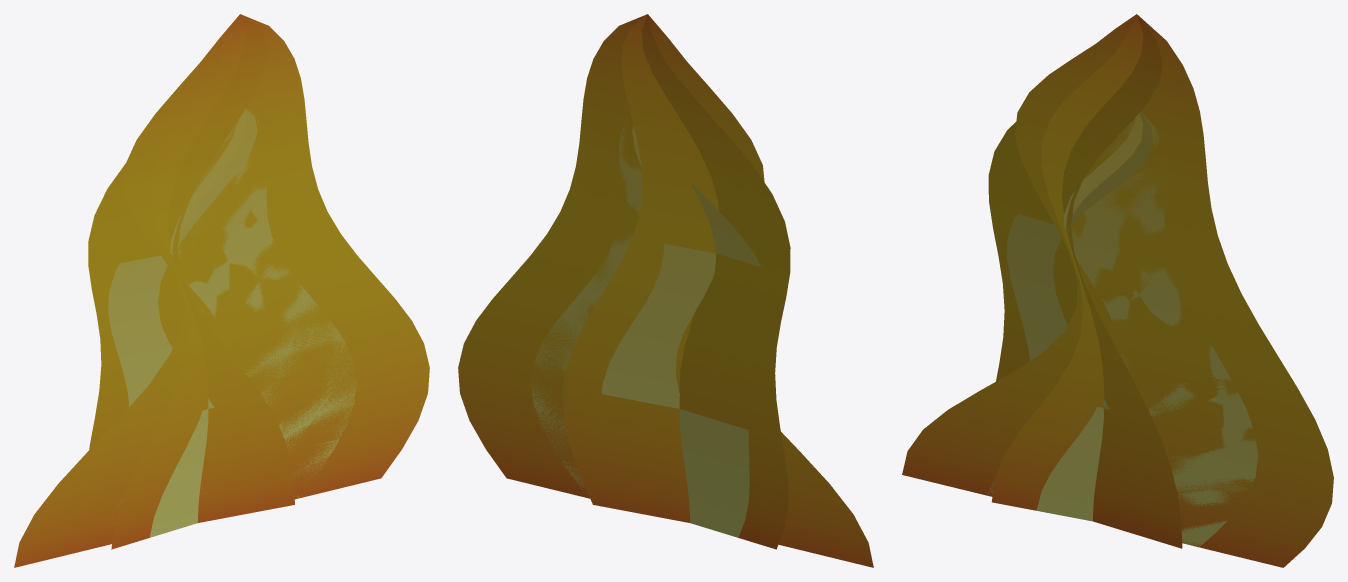
Rendered from 2032_MoltenEruption_Trigger_EruptionFire.fbx.
The picture shows the model from 3 angles, left to right: view 1: azimuth 30°, elevation 25°; view 2: azimuth 150°, elevation 25°; view 3: azimuth 330°, elevation 25°; orthographic projection. The views are drawn at different scales.
Parts seen in each view (by area): view 1: PART_Eruption_OrangeCurledOuterFire, PART_Eruption_YellowInnerFire; view 2: PART_Eruption_OrangeCurledOuterFire, PART_Eruption_YellowInnerFire; view 3: PART_Eruption_OrangeCurledOuterFire, PART_Eruption_YellowInnerFire.
Part boxes in pixels (box(x1,y1,x2,y2)): PART_Eruption_OrangeCurledOuterFire: box(14, 14, 429, 567); PART_Eruption_YellowInnerFire: box(108, 108, 356, 537); PART_Eruption_OrangeCurledOuterFire: box(458, 14, 873, 567); PART_Eruption_YellowInnerFire: box(531, 125, 761, 537); PART_Eruption_OrangeCurledOuterFire: box(902, 14, 1333, 567); PART_Eruption_YellowInnerFire: box(987, 112, 1258, 546).
Size of the model in its own units: 87.23 by 100 by 4.44.
